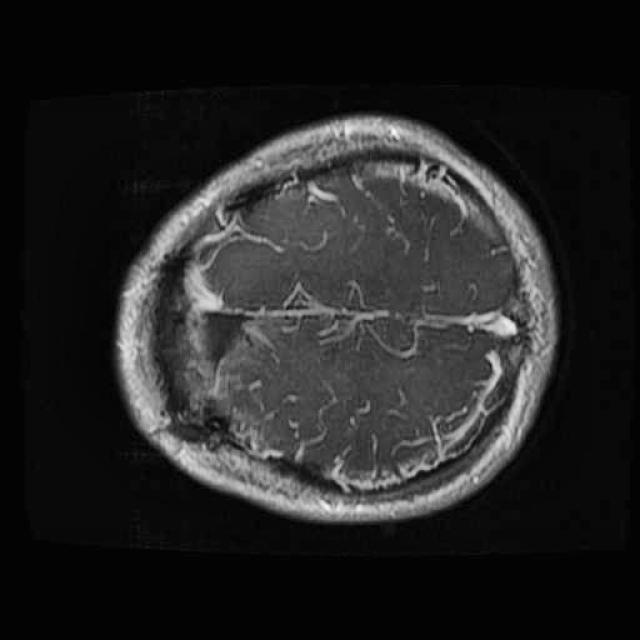Tumor: (131, 216, 274, 470)
